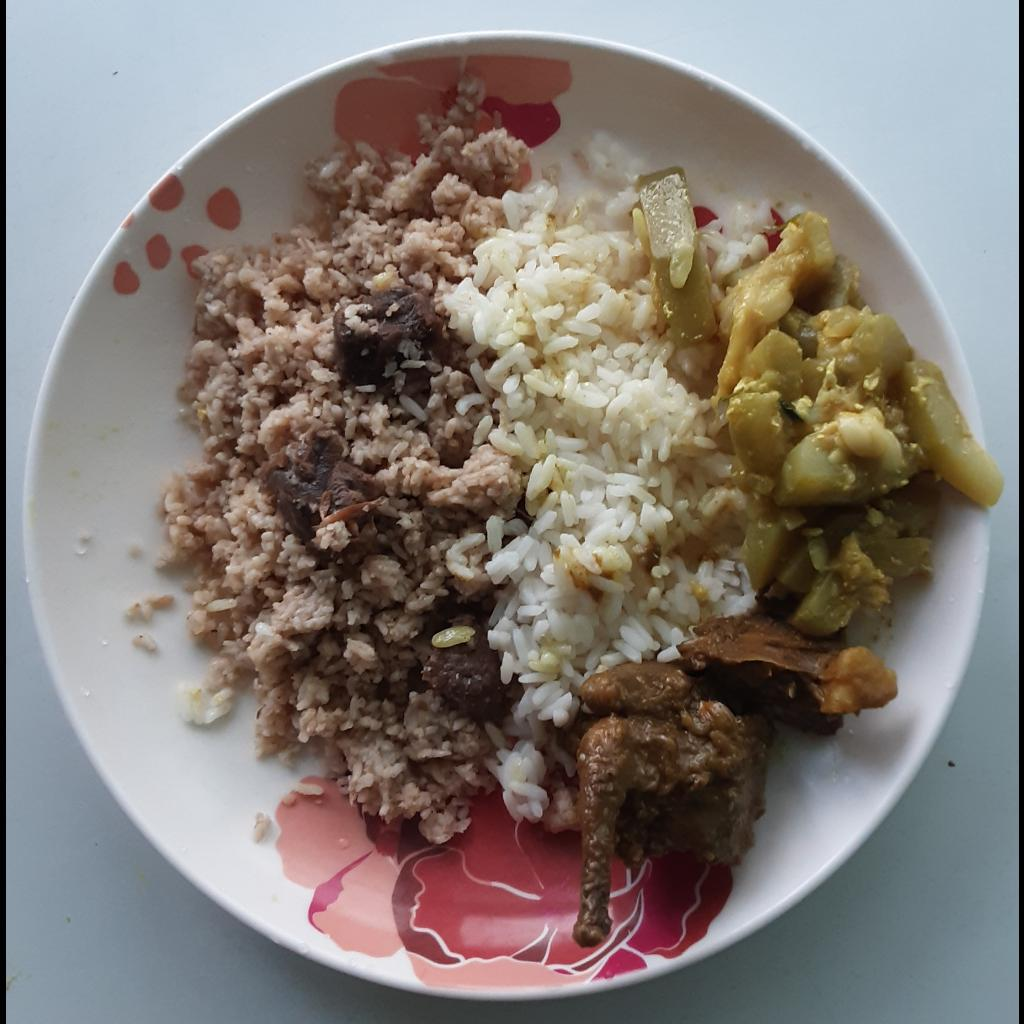biriyani: (155, 72, 526, 847)
chicken: (568, 616, 899, 958)
lau: (632, 167, 1006, 638)
rice: (435, 116, 755, 828)
